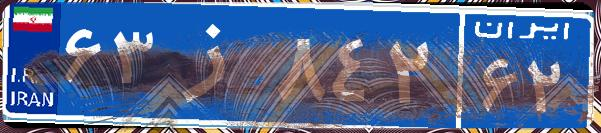2: (385, 28, 445, 110), (525, 38, 570, 115)
3: (110, 28, 158, 105)
4: (330, 28, 385, 110)
6: (57, 26, 110, 107), (475, 38, 525, 113)
8: (273, 28, 330, 110)
ز: (158, 15, 273, 115)
